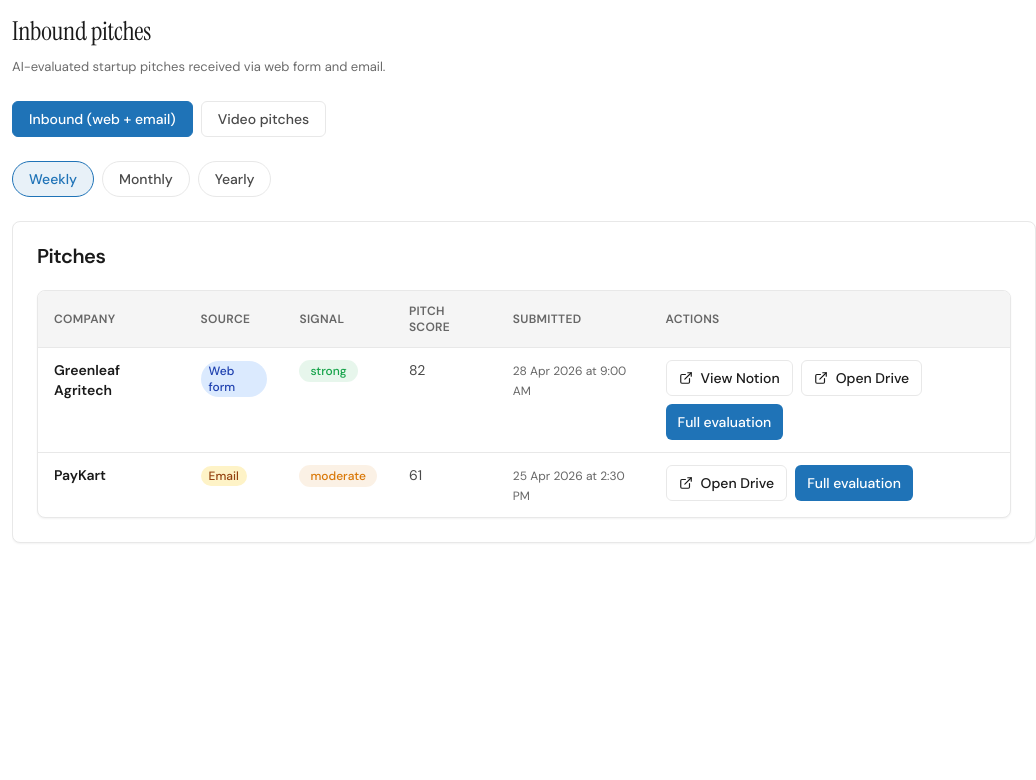
Test: AdminInboundPitchesPage — video pitches tab › switches to the video tab and renders the WA video rows
Check: the tab with test id "tab-inbound" is shown, box [12,100,193,136]
Click the tab with test id "tab-video": point(263, 118) [201,100,326,136]
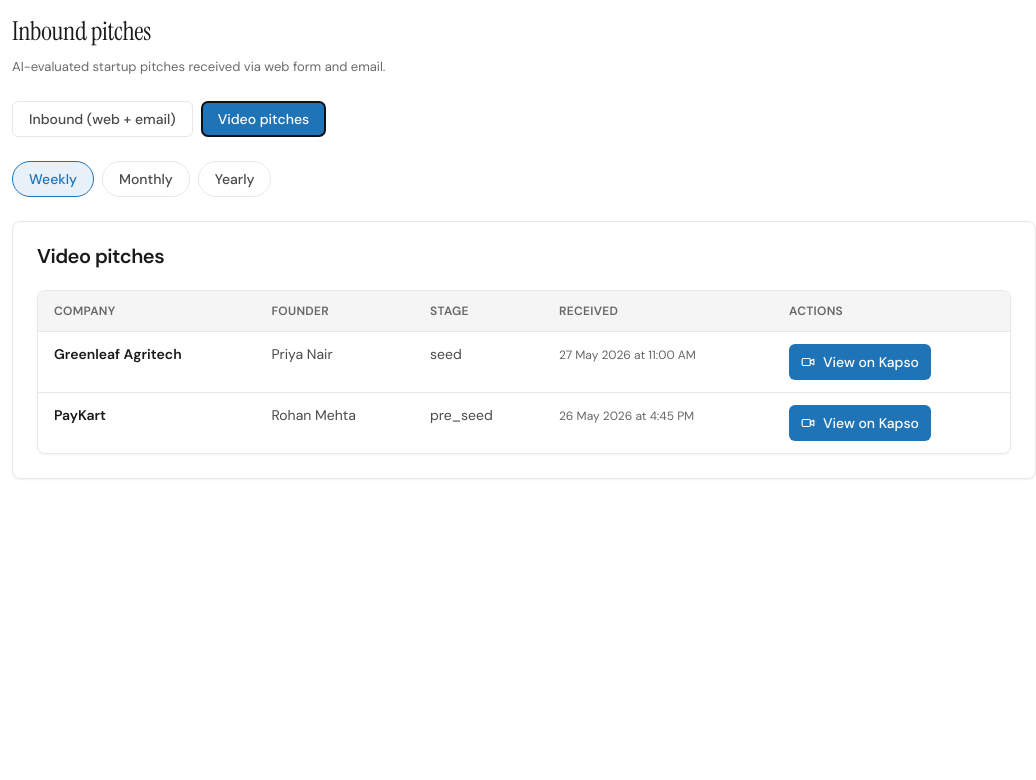
Check: the link with test id "video-link-00000000-0000-4000-8000-000000000bb1" is shown, box [789,344,931,380]
Check: the link with test id "video-link-00000000-0000-4000-8000-000000000bb2" is shown, box [789,404,931,440]
